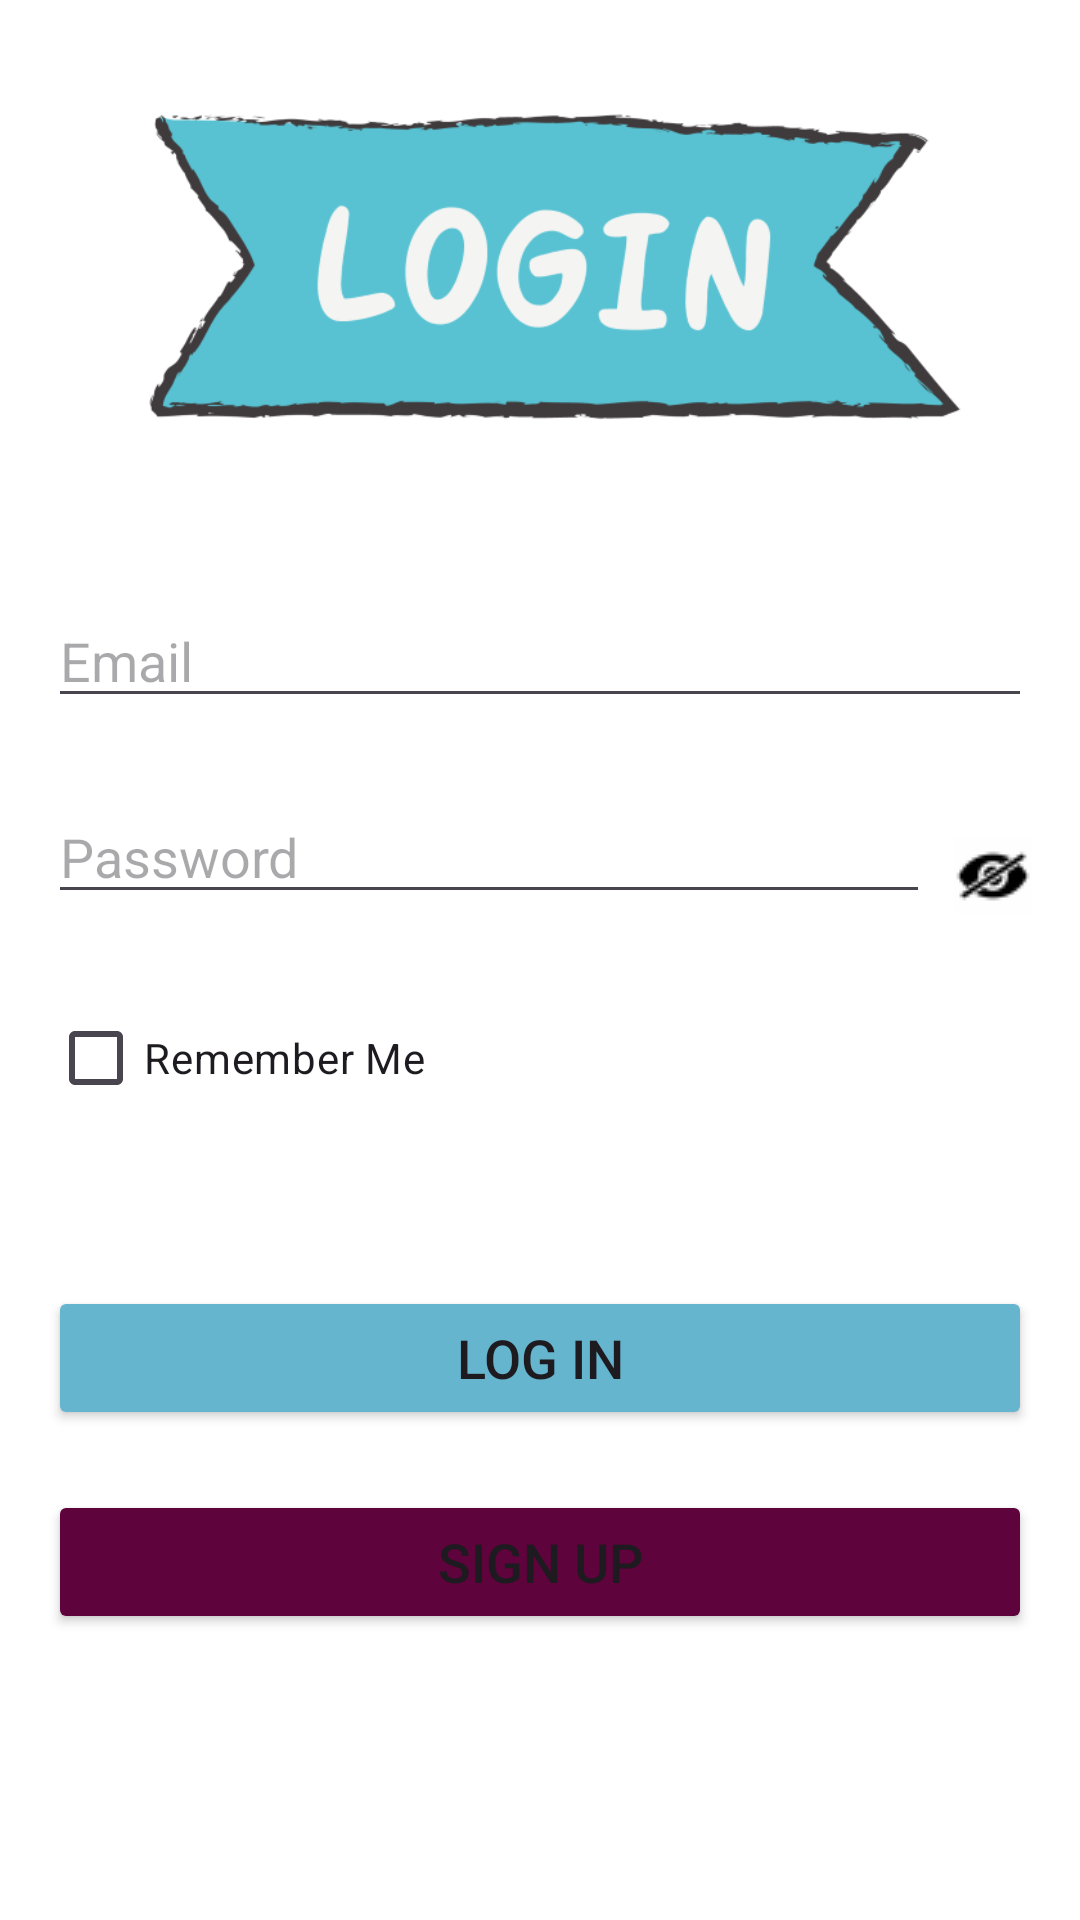

Locate icon controls on the screen. Image size 1080w x 1920h, boxes as (x1, y1, x2, y2).
eye closed: (957, 851, 1029, 901)
